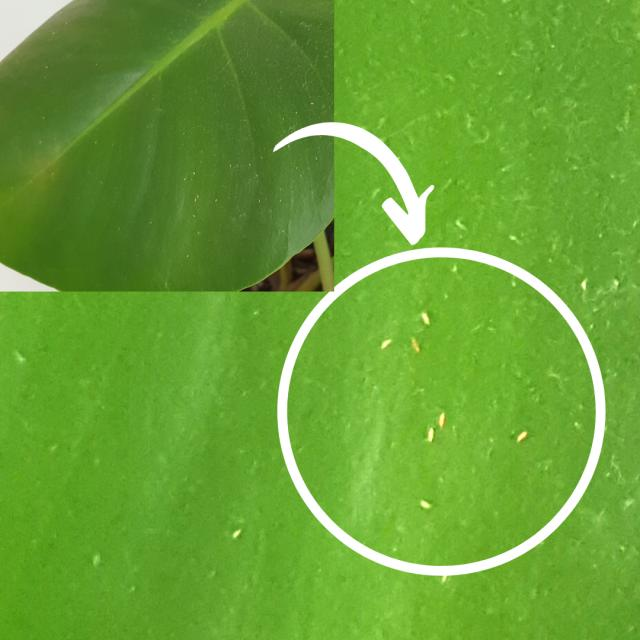Thrip-Larva-: (403, 328, 426, 360), (374, 331, 397, 355), (419, 422, 440, 447), (418, 307, 436, 329), (513, 426, 530, 444), (436, 405, 446, 427), (233, 523, 244, 542), (183, 251, 191, 260), (148, 219, 155, 226), (182, 175, 188, 183), (212, 198, 220, 204), (255, 198, 262, 204), (190, 213, 198, 218), (255, 172, 260, 180), (246, 161, 252, 167), (196, 192, 201, 199), (190, 176, 194, 184), (193, 170, 197, 176), (193, 198, 198, 202)
